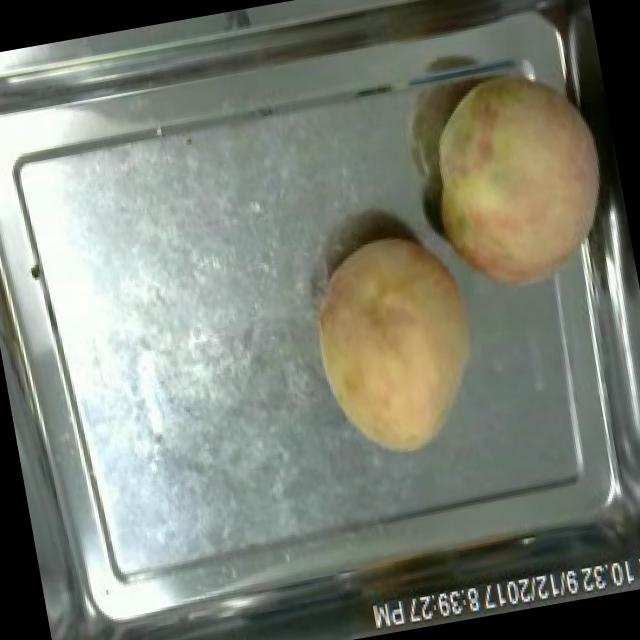Fruit: (408, 54, 630, 310), (292, 217, 500, 469)
